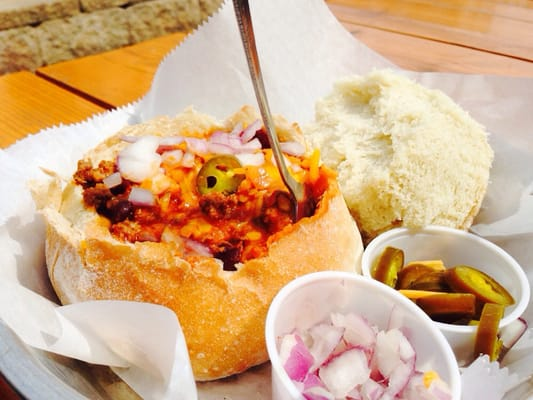sushi: (264, 270, 463, 400), (361, 225, 532, 369)
